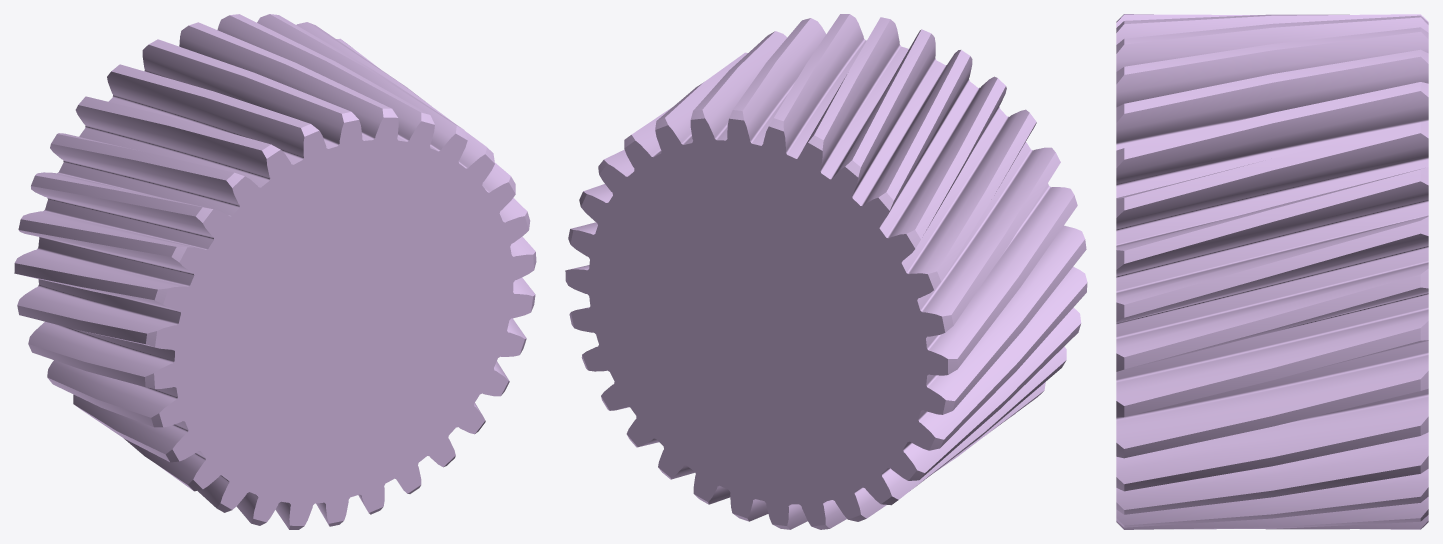
The model's file is 2.2 Helical Gear.glb.
3 views of the same model, side by side, from view 1: azimuth 30°, elevation 25°; view 2: azimuth 150°, elevation 25°; view 3: azimuth 270°, elevation 25° (orthographic). The views are drawn at different scales.
Parts seen in each view (by area): view 1: 零件2; view 2: 零件2; view 3: 零件2.
Part boxes in pixels (x1=…): 零件2: x1=14, y1=14, x2=536, y2=529; 零件2: x1=565, y1=14, x2=1087, y2=529; 零件2: x1=1116, y1=14, x2=1428, y2=529.
Bounding box in the file's own units: 0.0661 × 0.0661 × 0.04.
